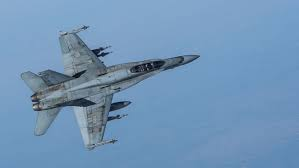fighter: (19, 22, 205, 150)
